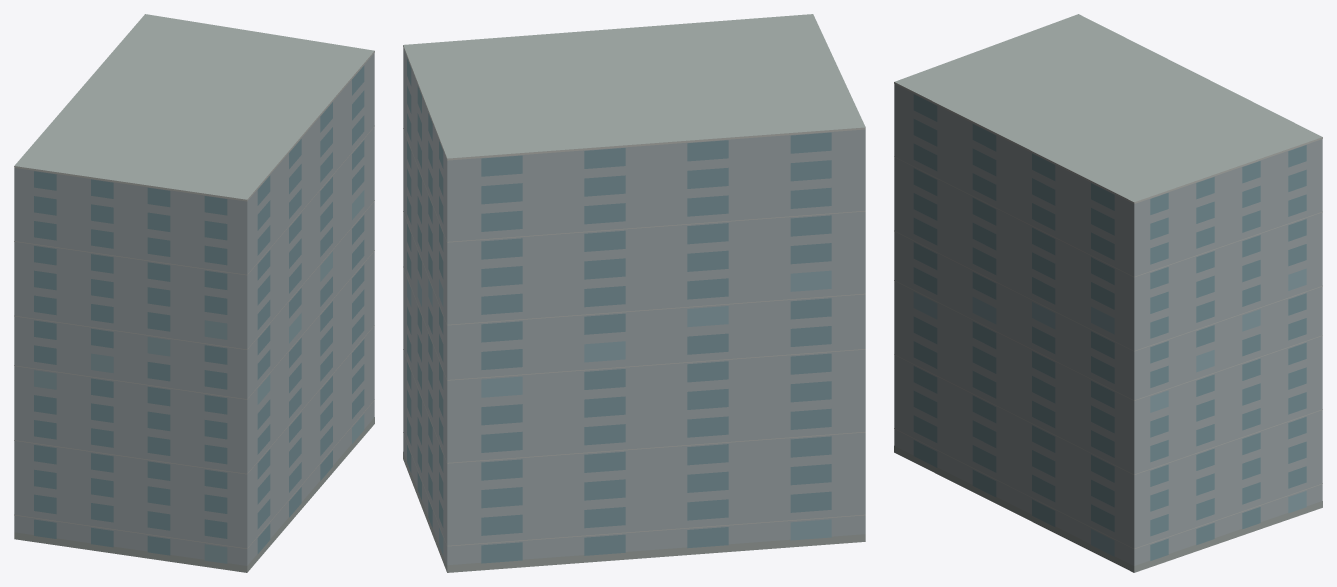
File: survey-upis-32960707.glb
3 views of the same model, side by side, from view 1: azimuth 30°, elevation 25°; view 2: azimuth 150°, elevation 25°; view 3: azimuth 270°, elevation 25° (orthographic). The views are drawn at different scales.
Parts seen in each view (by area): view 1: survey-upis-32960707.tmp; view 2: survey-upis-32960707.tmp; view 3: survey-upis-32960707.tmp.
Boxes of the visible parts, x1=… form: survey-upis-32960707.tmp: x1=14, y1=14, x2=374, y2=572; survey-upis-32960707.tmp: x1=403, y1=14, x2=865, y2=572; survey-upis-32960707.tmp: x1=894, y1=14, x2=1322, y2=572.
Bounding box in the file's own units: 54.4 × 49.9 × 52.32.
